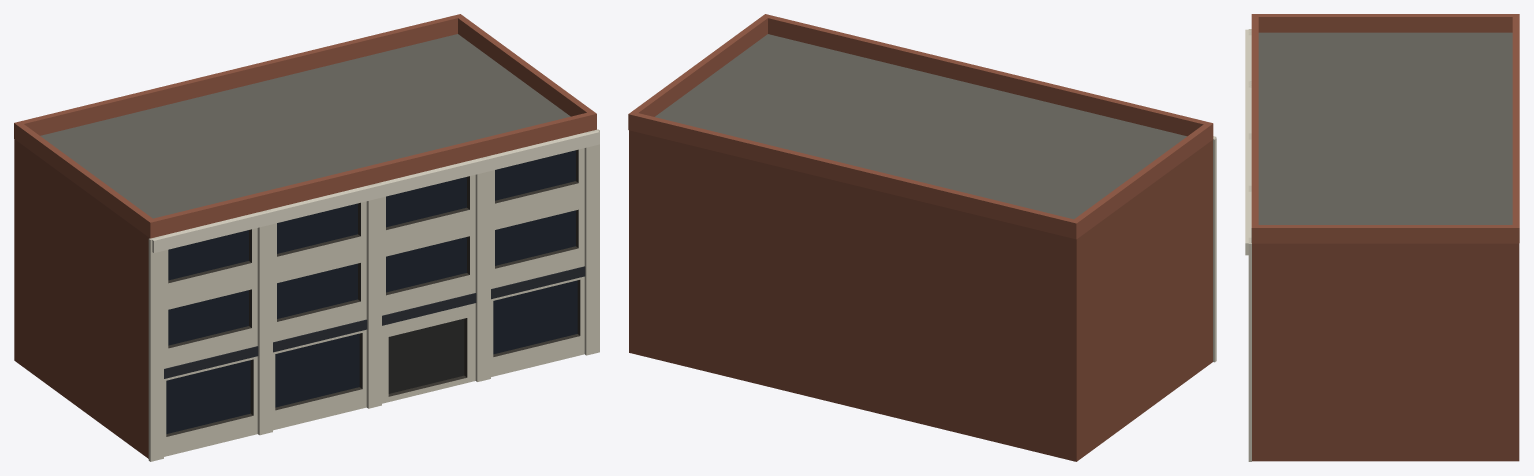
The model's file is bank-1913-b13287.glb.
3 renders of one model, left to right at view 1: azimuth 30°, elevation 25°; view 2: azimuth 150°, elevation 25°; view 3: azimuth 270°, elevation 25°, orthographic. The views are drawn at different scales.
Parts seen in each view (by area): view 1: kit-bank-1913-b13287; view 2: kit-bank-1913-b13287; view 3: kit-bank-1913-b13287.
Boxes of the visible parts, x1,y1,x2,y2 form: kit-bank-1913-b13287: [14, 14, 599, 461]; kit-bank-1913-b13287: [628, 14, 1216, 461]; kit-bank-1913-b13287: [1245, 14, 1519, 461].
Bounding box in the file's own units: 26.7 × 13.5 × 14.37.
